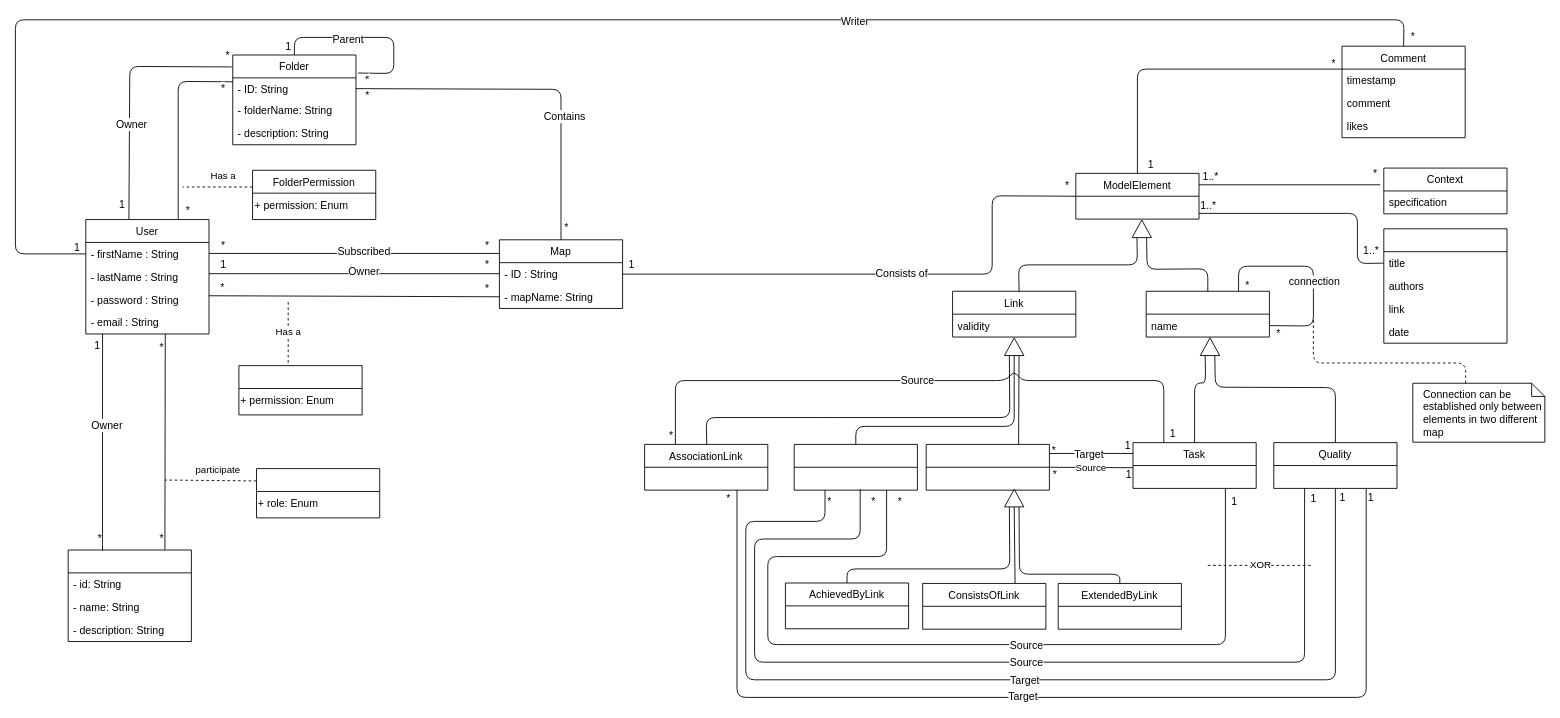
The diagram is 1560 pixels wide and 718 high, and some of its shapes have lost their labels. The shapes that lost their labels are listed below. From the top down, each one's box as (x1, y1, x2, y2) in pixels, then its label:
(1383, 228, 1507, 343): Reference
(1145, 290, 1269, 337): NamedModelElement
(238, 365, 362, 415): MapPermission
(793, 444, 917, 490): ContributionLink
(925, 444, 1049, 490): TaskBasedLink
(256, 468, 380, 518): UserInGroup
(67, 549, 191, 642): Group
